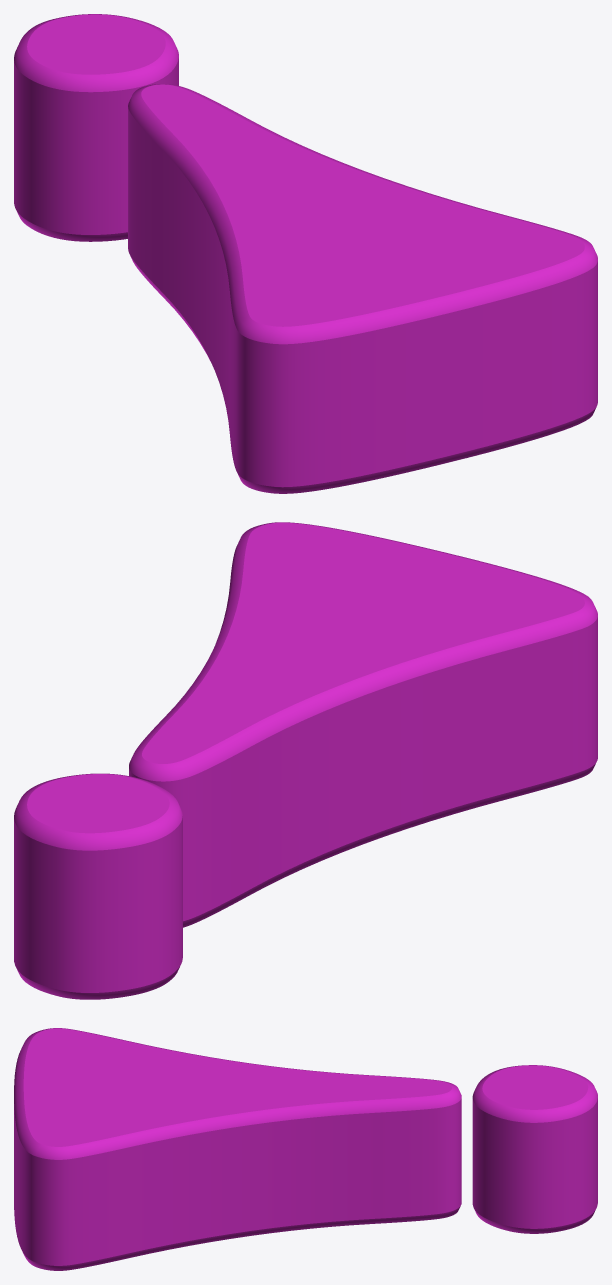
File: ExclamationMark.fbx
3 renders of one model, top to bottom at view 1: azimuth 30°, elevation 25°; view 2: azimuth 150°, elevation 25°; view 3: azimuth 270°, elevation 25°, orthographic. The views are drawn at different scales.
Parts seen in each view (by area): view 1: ExclamationMark; view 2: ExclamationMark; view 3: ExclamationMark.
Part boxes in pixels (x1,y1,x2,y2): ExclamationMark: (14, 14, 597, 493); ExclamationMark: (14, 522, 597, 999); ExclamationMark: (14, 1028, 597, 1270).
Size of the model in its own units: 0.3081 by 0.14 by 0.5991.
